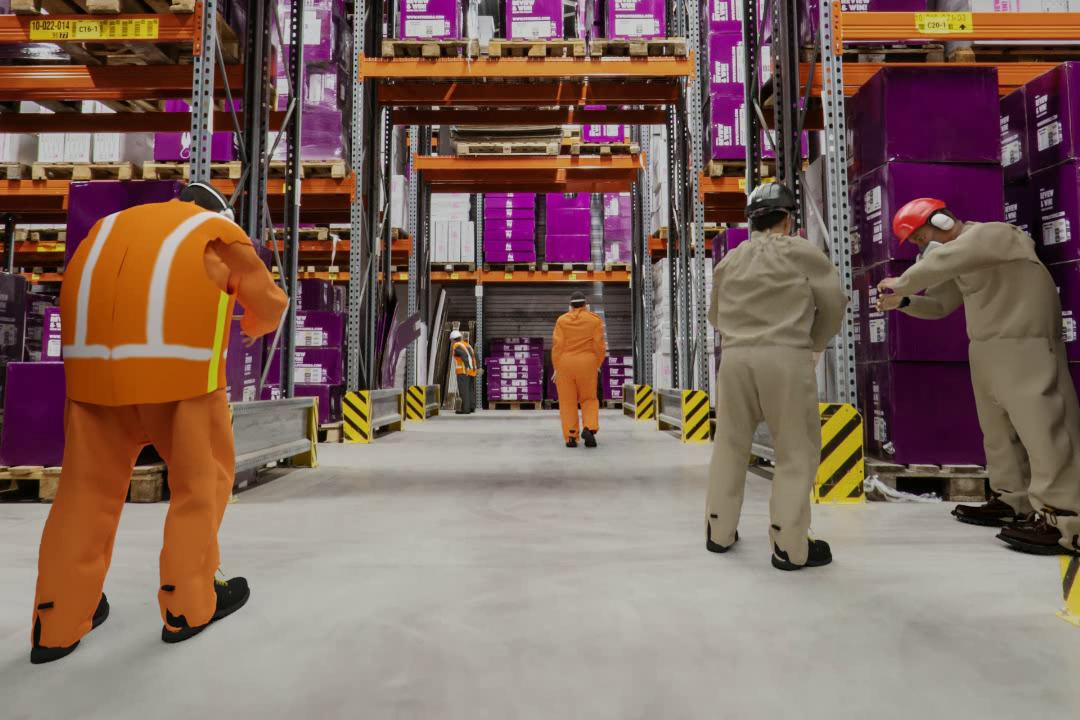Helmet: (887, 195, 965, 246), (749, 186, 808, 221), (447, 330, 460, 341)
Jacket: (62, 187, 211, 401), (451, 343, 473, 375)
Shoes: (23, 588, 112, 667), (160, 573, 253, 647), (1000, 519, 1080, 561), (771, 535, 834, 574), (953, 493, 1028, 525), (705, 528, 741, 553), (580, 424, 596, 455), (454, 406, 472, 415), (566, 438, 577, 450)
